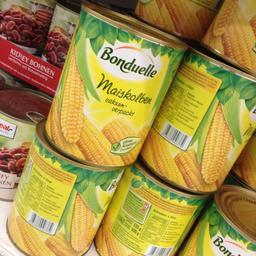corn: (44, 2, 186, 169), (140, 46, 254, 196), (6, 128, 122, 255), (90, 164, 204, 254)
